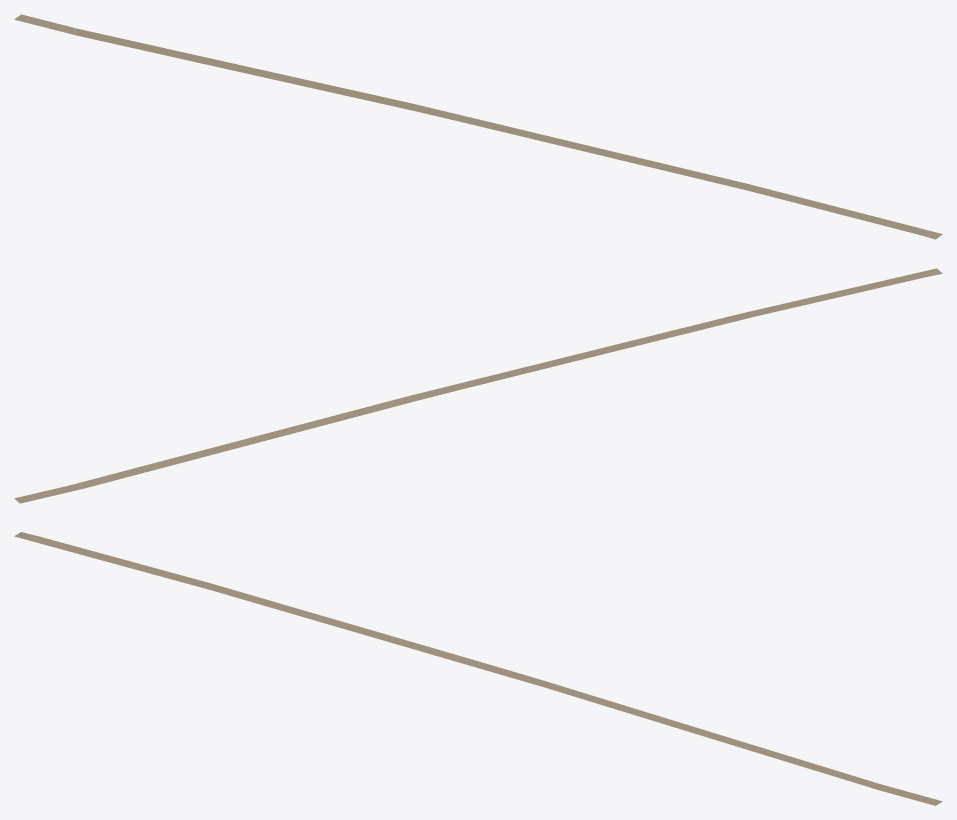
The model's file is farm_3_-6_track.glb.
3 renders of one model, top to bottom at view 1: azimuth 90°, elevation 25°; view 2: azimuth 150°, elevation 25°; view 3: azimuth 270°, elevation 25°, orthographic. The views are drawn at different scales.
Parts seen in each view (by area): view 1: geometry_0; view 2: geometry_0; view 3: geometry_0.
Boxes of the visible parts, left/top/right/bottom form: geometry_0: left=14, top=14, right=942, bottom=239; geometry_0: left=14, top=268, right=942, bottom=503; geometry_0: left=14, top=532, right=942, bottom=805.
Size of the model in its own units: 141 by 6.65 by 222.
